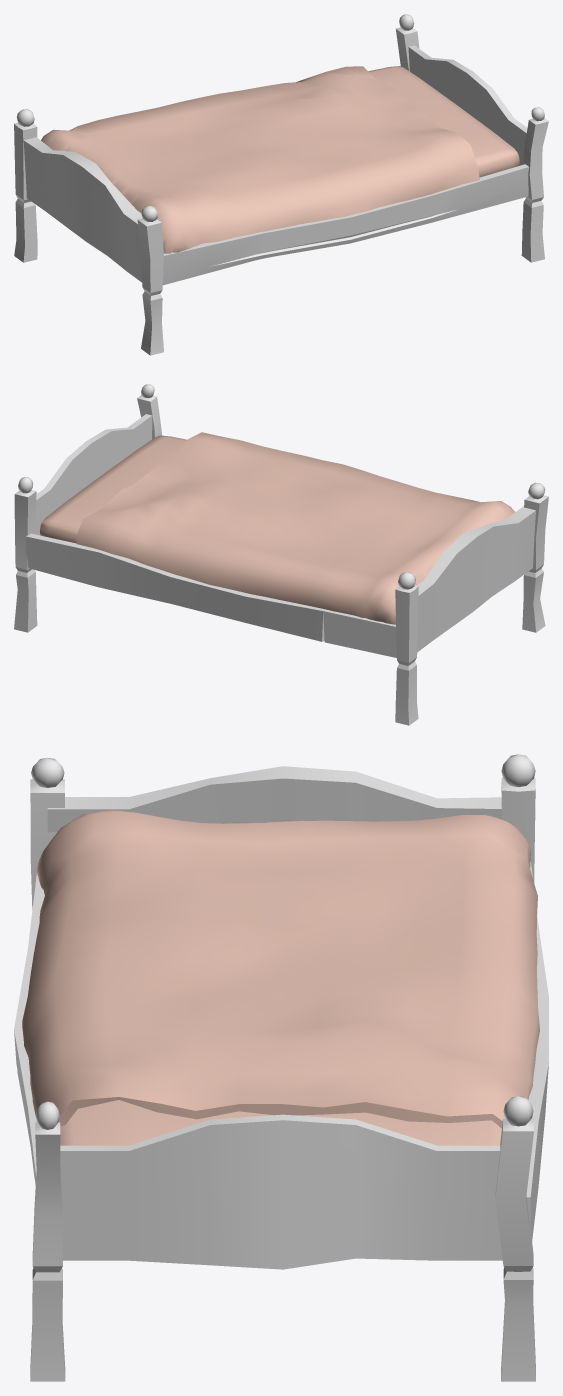
Rendered from SM_Bed.fbx.
The picture shows the model from 3 angles, top to bottom: view 1: azimuth 30°, elevation 25°; view 2: azimuth 150°, elevation 25°; view 3: azimuth 270°, elevation 25°; orthographic projection. The views are drawn at different scales.
Visible parts, largest first — view 1: SM_Bed; view 2: SM_Bed; view 3: SM_Bed.
Part boxes in pixels (x1=…): SM_Bed: x1=14, y1=14, x2=548, y2=355; SM_Bed: x1=14, y1=384, x2=548, y2=725; SM_Bed: x1=14, y1=754, x2=548, y2=1381.
Size of the model in its own units: 171 by 60.61 by 105.
